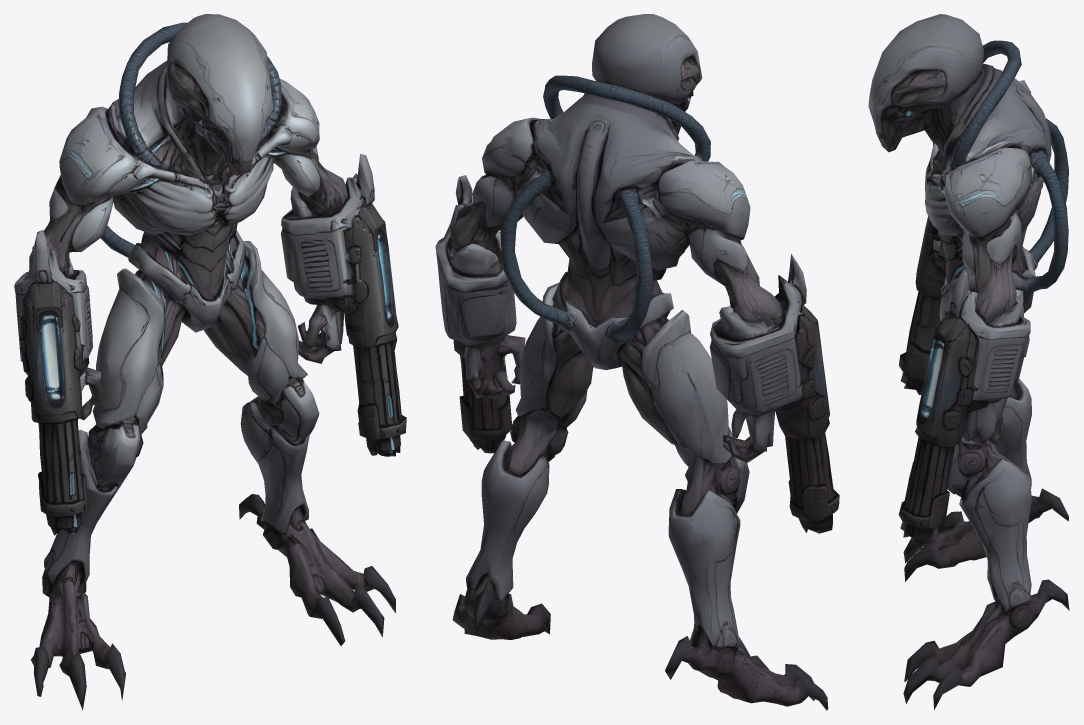
The model's file is Ranged.glb.
3 renders of one model, left to right at view 1: azimuth 30°, elevation 25°; view 2: azimuth 150°, elevation 25°; view 3: azimuth 270°, elevation 25°, orthographic. The views are drawn at different scales.
Visible parts, largest first — view 1: tripo_node_98552b8e-c689-4250-8295-4989b6eb8d30; view 2: tripo_node_98552b8e-c689-4250-8295-4989b6eb8d30; view 3: tripo_node_98552b8e-c689-4250-8295-4989b6eb8d30.
Part boxes in pixels (box(x1,y1,x2,y2)): tripo_node_98552b8e-c689-4250-8295-4989b6eb8d30: box(14, 14, 406, 710); tripo_node_98552b8e-c689-4250-8295-4989b6eb8d30: box(435, 14, 839, 710); tripo_node_98552b8e-c689-4250-8295-4989b6eb8d30: box(868, 14, 1069, 710).
Size of the model in its own units: 0.5949 by 1 by 0.2959.
1 material, 1 textured.
